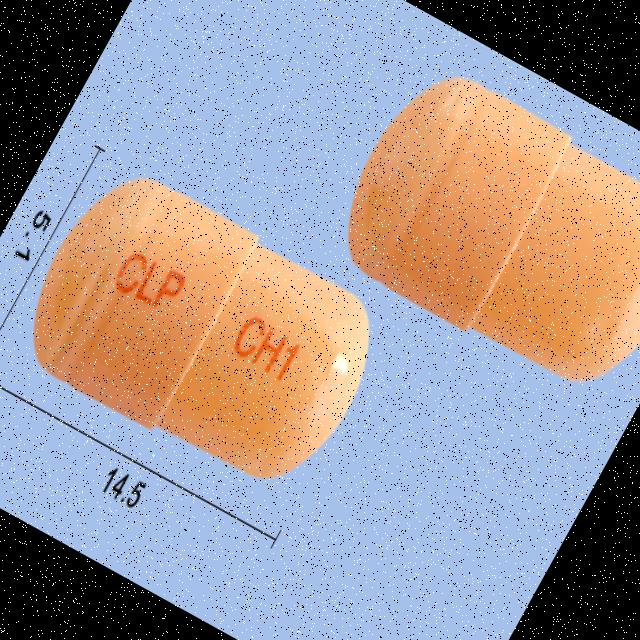Ceprion Cap: (0, 148, 408, 517), (313, 50, 640, 418)
